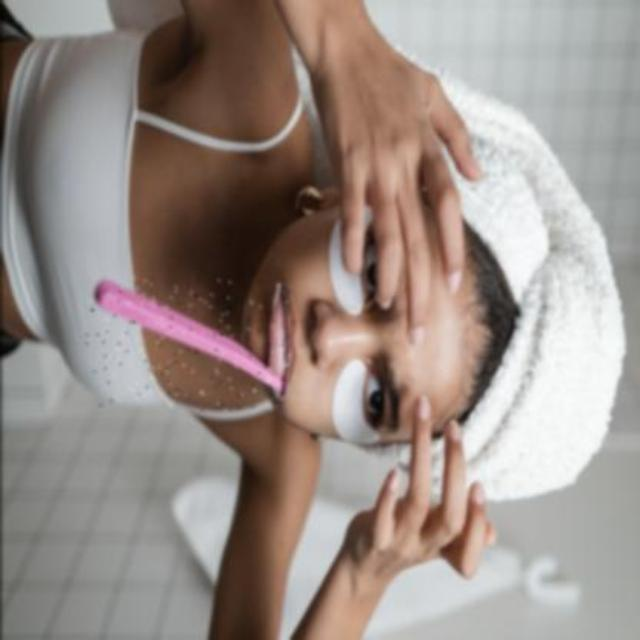toothbrush: (85, 274, 292, 410)
